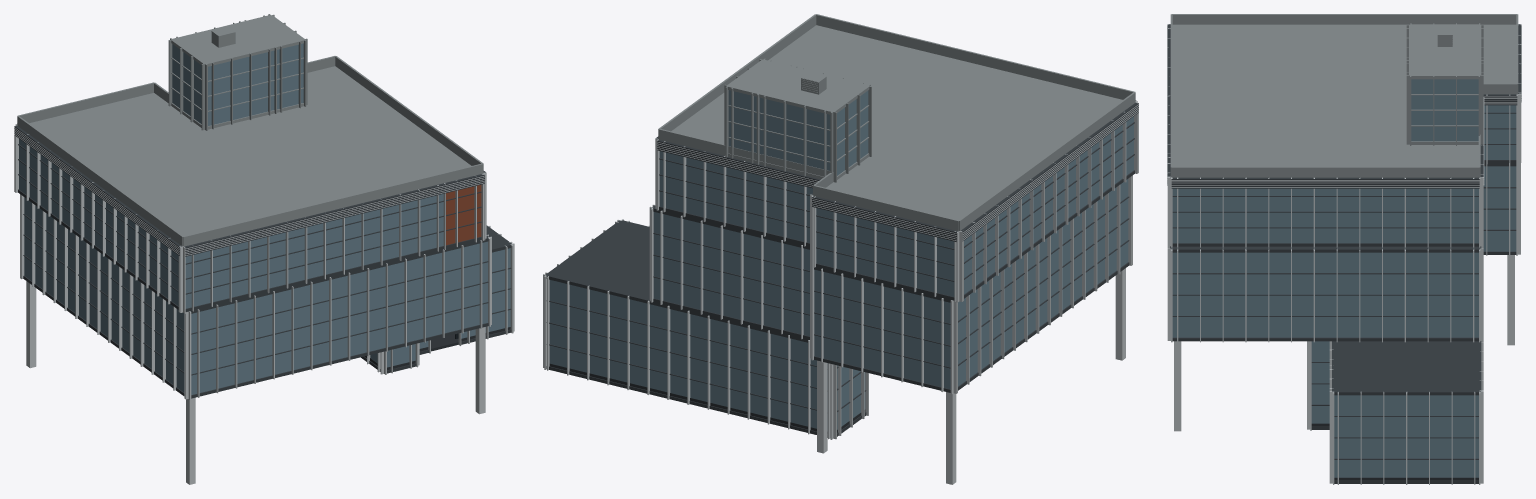
The model's file is building-v2-lod0.glb.
The picture shows the model from 3 angles, left to right: view 1: azimuth 30°, elevation 25°; view 2: azimuth 150°, elevation 25°; view 3: azimuth 270°, elevation 25°; orthographic projection. The views are drawn at different scales.
Visible parts, largest first — view 1: building-v2_MATERIAL_BATCH; view 2: building-v2_MATERIAL_BATCH; view 3: building-v2_MATERIAL_BATCH.
Boxes of the visible parts, x1,y1,x2,y2 form: building-v2_MATERIAL_BATCH: (14, 14, 514, 484); building-v2_MATERIAL_BATCH: (543, 14, 1138, 484); building-v2_MATERIAL_BATCH: (1167, 14, 1521, 484).
Bounding box in the file's own units: 29.52 × 21.8 × 21.03.
